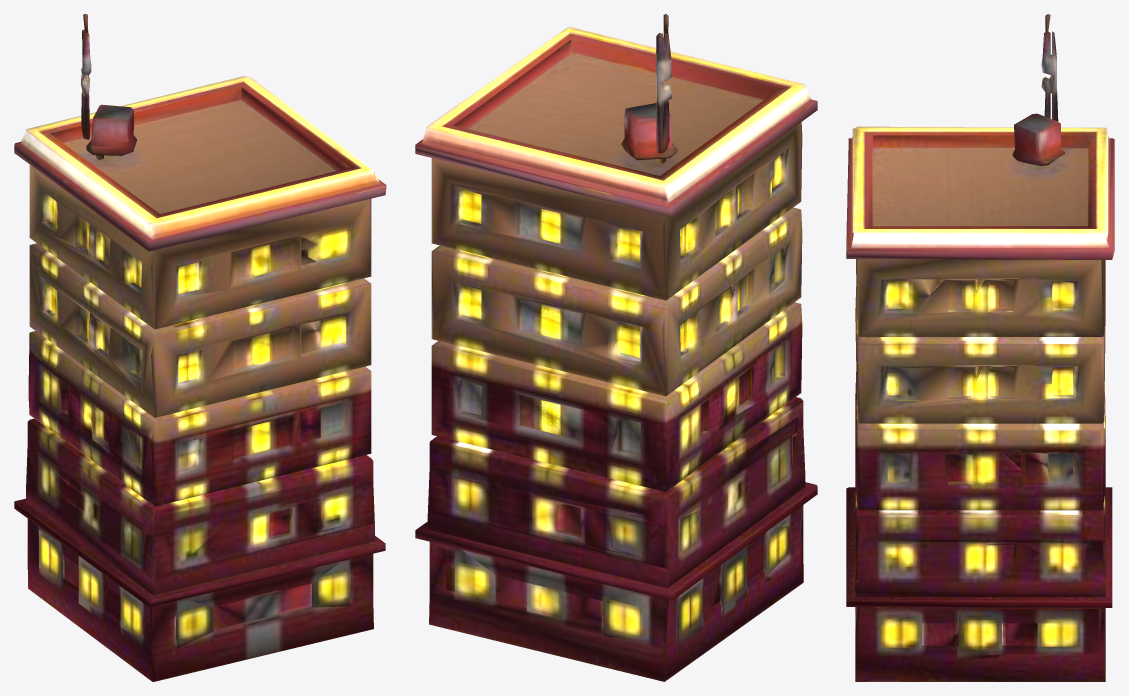
File: building_apt.glb
The picture shows the model from 3 angles, left to right: view 1: azimuth 30°, elevation 25°; view 2: azimuth 150°, elevation 25°; view 3: azimuth 270°, elevation 25°; orthographic projection. The views are drawn at different scales.
Bounding box in the file's own units: 0.8023 × 1.9 × 0.8023.
Materials: 1 (1 with a texture image).
